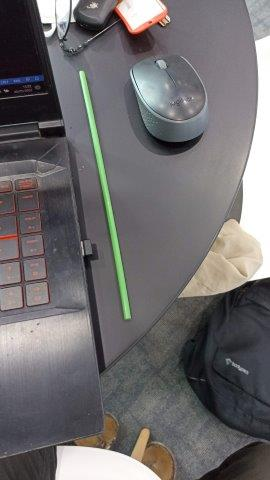sedotan: (79, 71, 130, 318)
